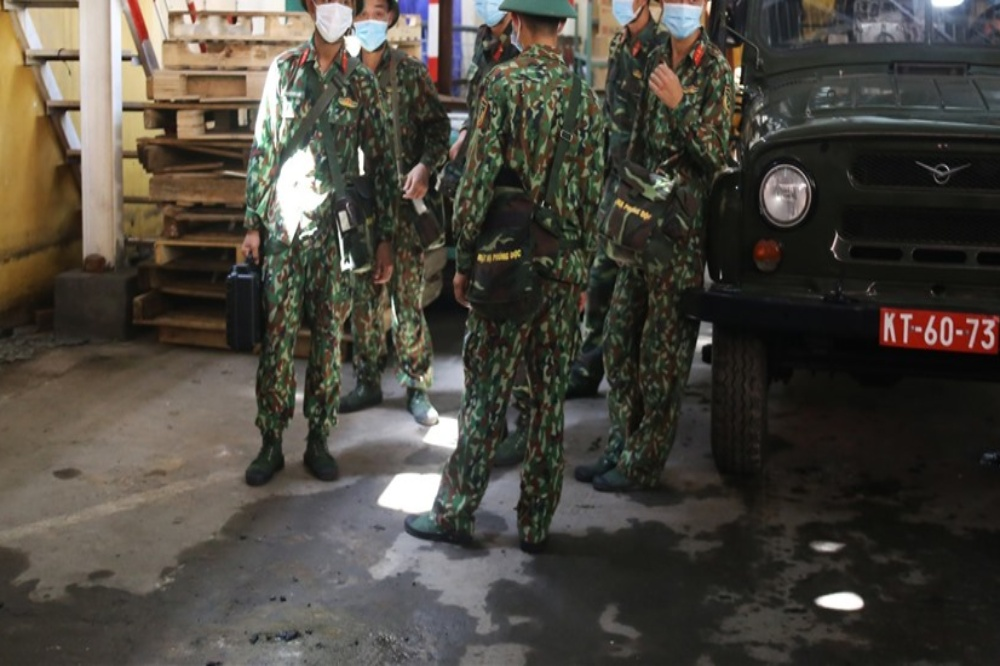plate: (874, 301, 1000, 353)
